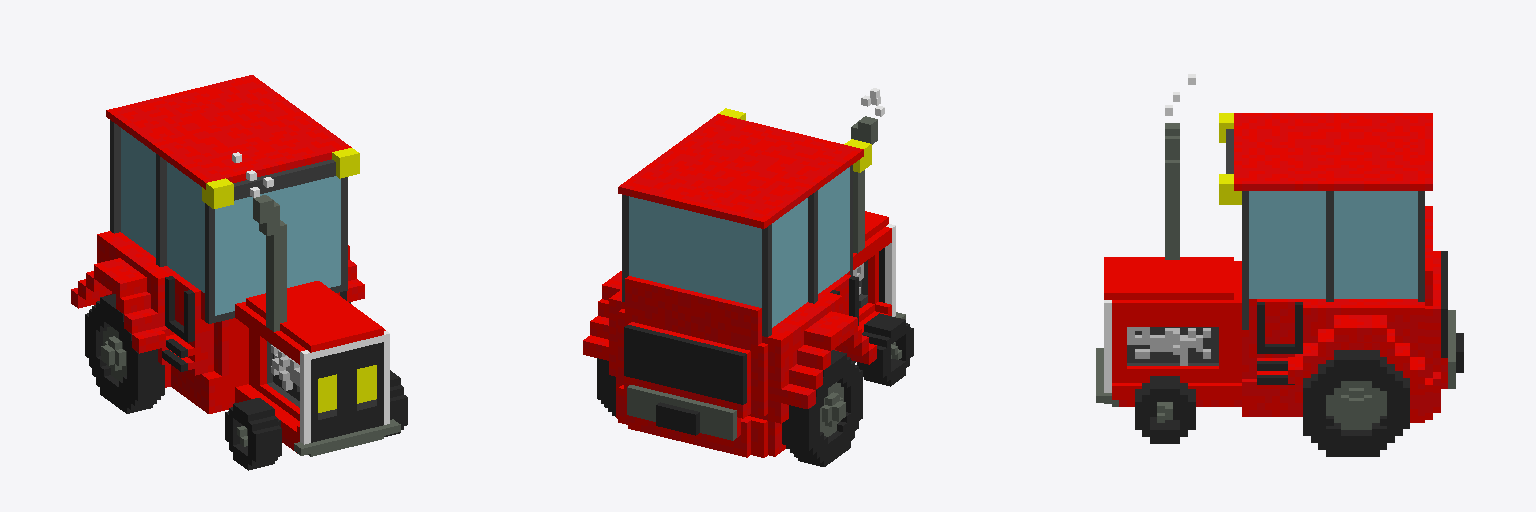
3 renders of one model, left to right at view 1: azimuth 30°, elevation 25°; view 2: azimuth 150°, elevation 25°; view 3: azimuth 270°, elevation 25°, orthographic.
Visible parts, largest first — view 1: object 1; view 2: object 1; view 3: object 1.
Part boxes in pixels (bbox=[...]): object 1: bbox=[71, 75, 407, 470]; object 1: bbox=[583, 88, 913, 466]; object 1: bbox=[1096, 74, 1463, 456].
Size of the model in its own units: 3.4 by 4.3 by 4.8.
Materials: 1 (1 with a texture image).